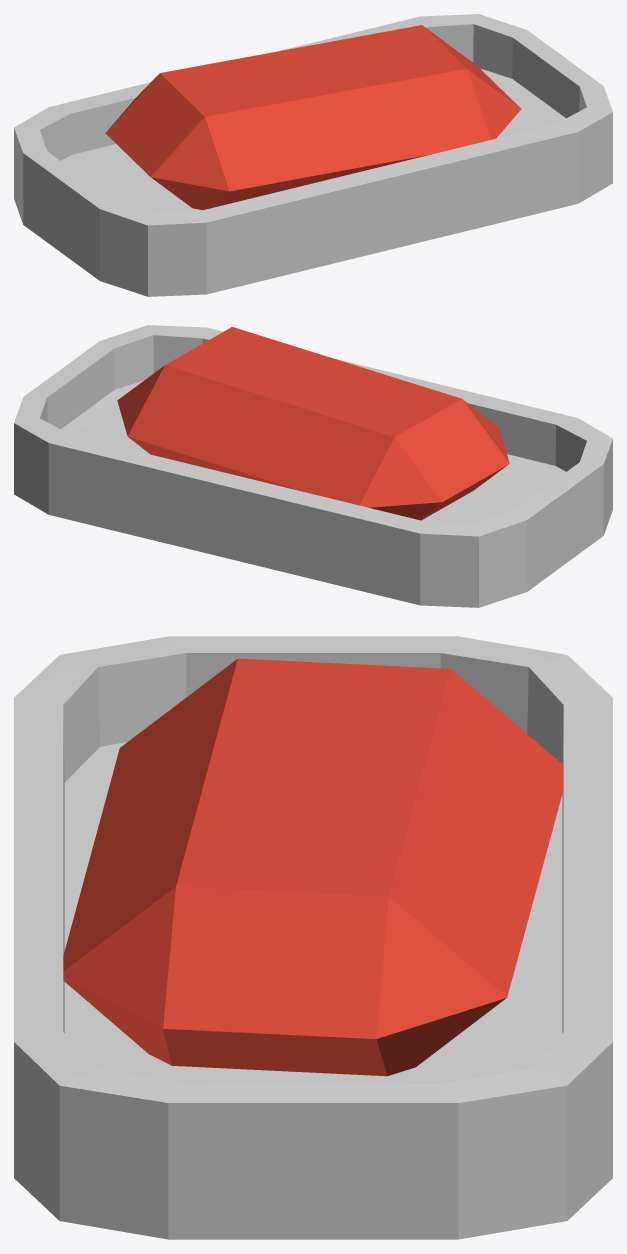
The model's file is furniture_soap-tray.fbx.
The picture shows the model from 3 angles, top to bottom: view 1: azimuth 30°, elevation 25°; view 2: azimuth 150°, elevation 25°; view 3: azimuth 270°, elevation 25°; orthographic projection. The views are drawn at different scales.
Visible parts, largest first — view 1: furniture_soap_tray; view 2: furniture_soap_tray; view 3: furniture_soap_tray.
Boxes of the visible parts, bbox=[...] form: furniture_soap_tray: bbox=[14, 14, 612, 296]; furniture_soap_tray: bbox=[14, 325, 612, 607]; furniture_soap_tray: bbox=[14, 636, 612, 1239].
Bounding box in the file's own units: 200 × 45.69 × 108.
